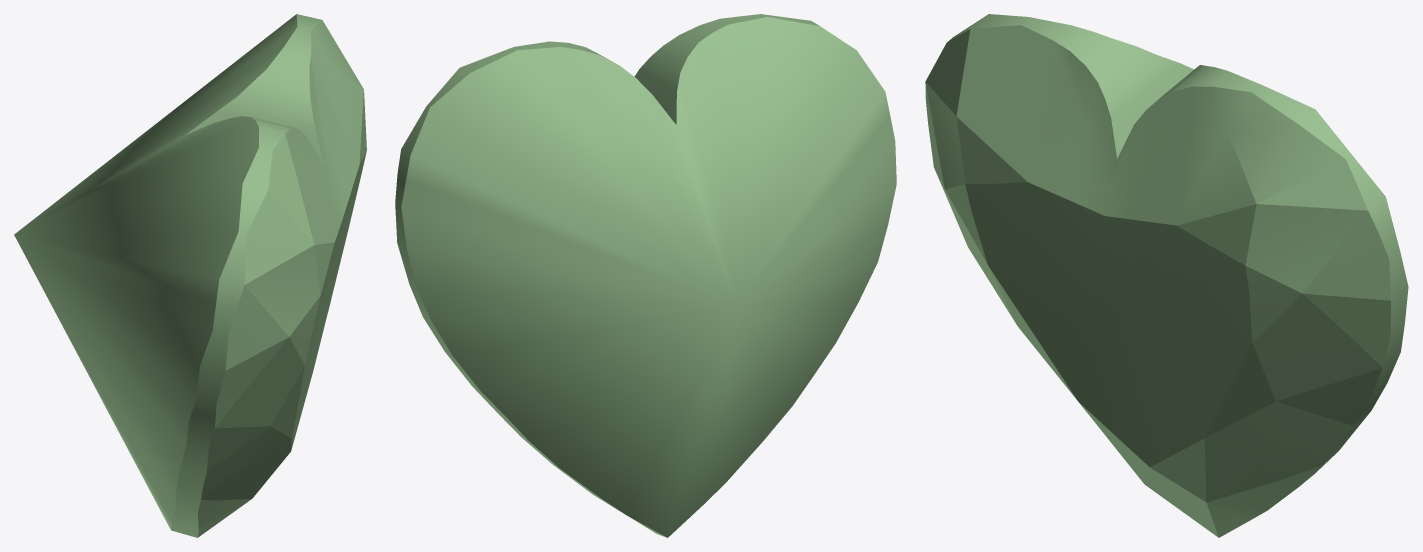
File: TR3_8shapes_heart_Classic_Stone.001 3.glb
The picture shows the model from 3 angles, left to right: view 1: azimuth 30°, elevation 25°; view 2: azimuth 150°, elevation 25°; view 3: azimuth 270°, elevation 25°; orthographic projection. The views are drawn at different scales.
Visible parts, largest first — view 1: TR3_8shapes_heart_Classic_Stone.001; view 2: TR3_8shapes_heart_Classic_Stone.001; view 3: TR3_8shapes_heart_Classic_Stone.001.
Boxes of the visible parts, bbox=[...] form: TR3_8shapes_heart_Classic_Stone.001: bbox=[14, 14, 366, 537]; TR3_8shapes_heart_Classic_Stone.001: bbox=[395, 14, 896, 537]; TR3_8shapes_heart_Classic_Stone.001: bbox=[925, 14, 1408, 537].
Bounding box in the file's own units: 0.373 × 0.5208 × 0.4406.
